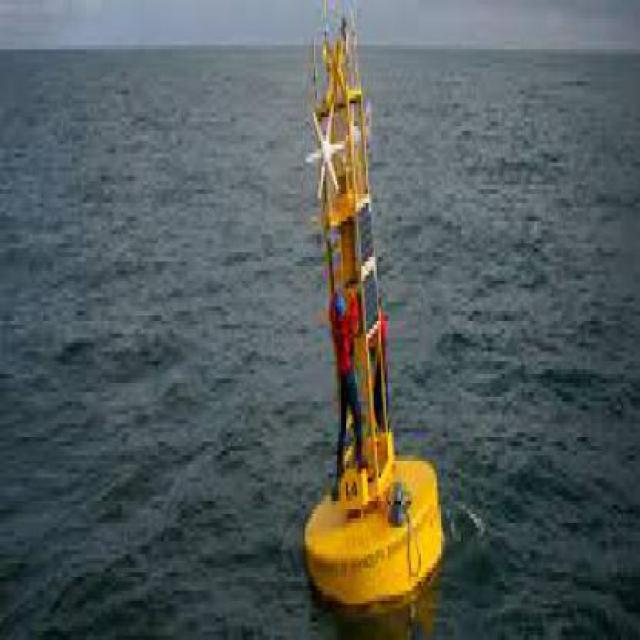buoy: (291, 1, 457, 624)
